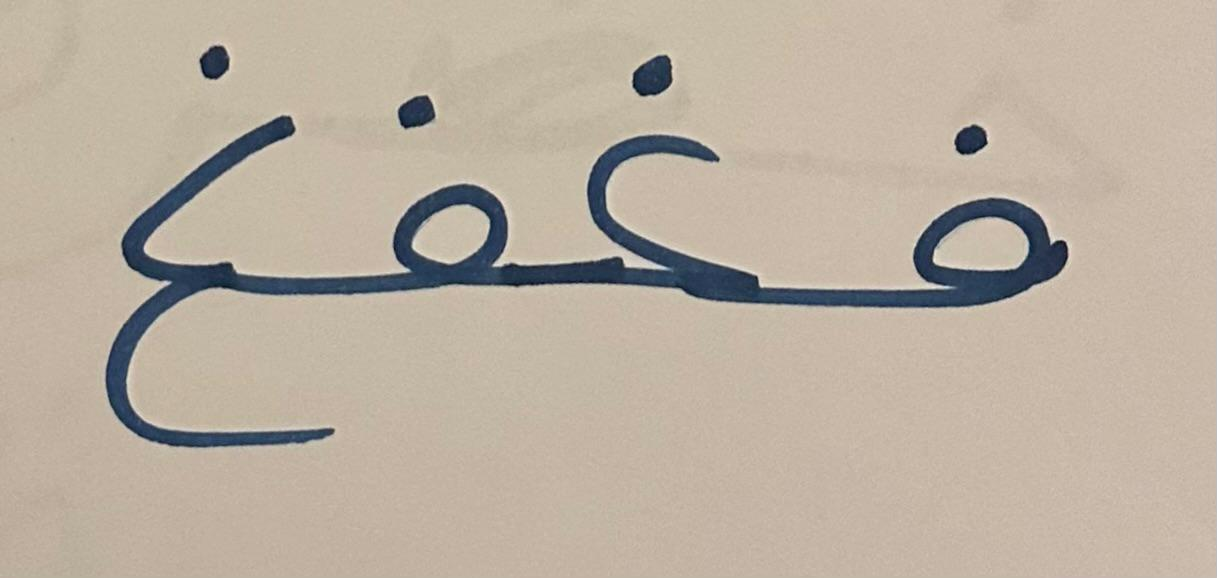sad: (817, 29, 1107, 383)
sheen: (331, 40, 557, 362)
teh_marbota: (52, 14, 324, 531)
thal: (563, 26, 810, 400)
